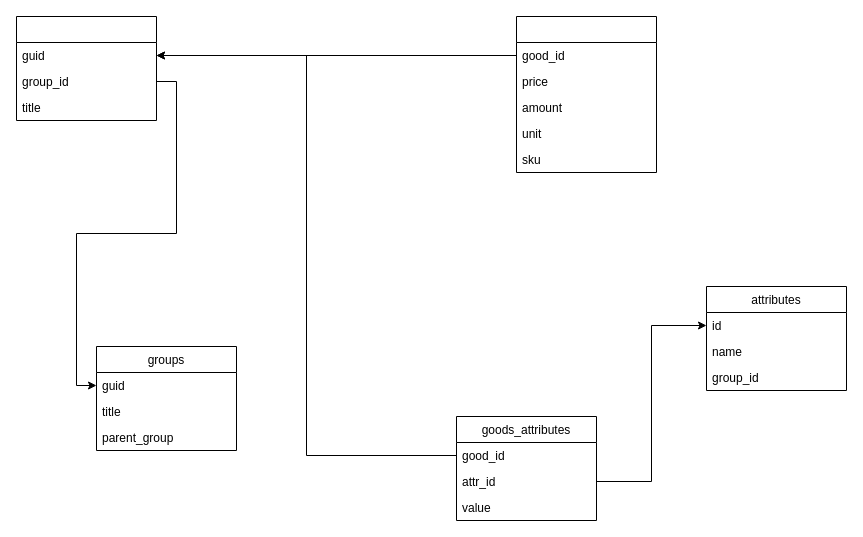
This 863x537 diagram has some shape labels left out. The shapes that lost their labels are listed below. From the top down, each one's box as (x1, y1, x2, y2) in pixels, then its label:
(16, 16, 156, 120): goods
(516, 16, 656, 172): prices_and_amounts
